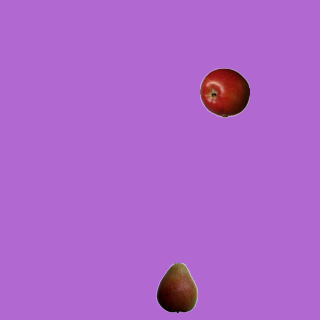Apple Braeburn: (199, 67, 249, 117)
Pear Forelle: (151, 262, 201, 312)
